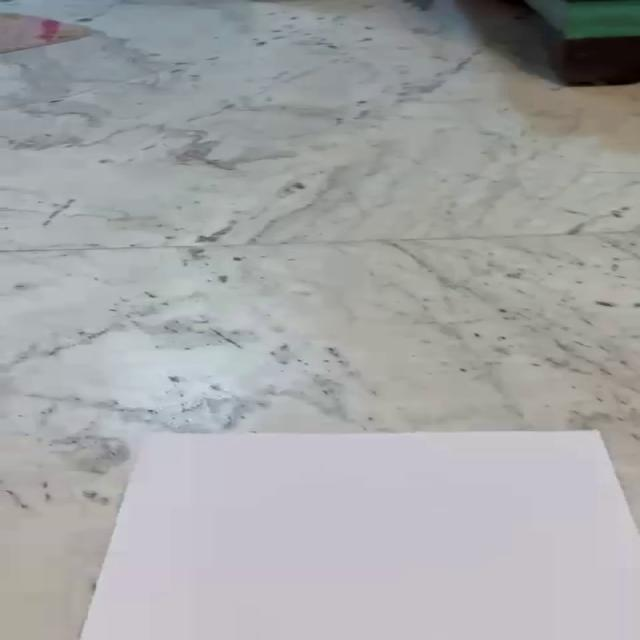road: (79, 430, 640, 640)
